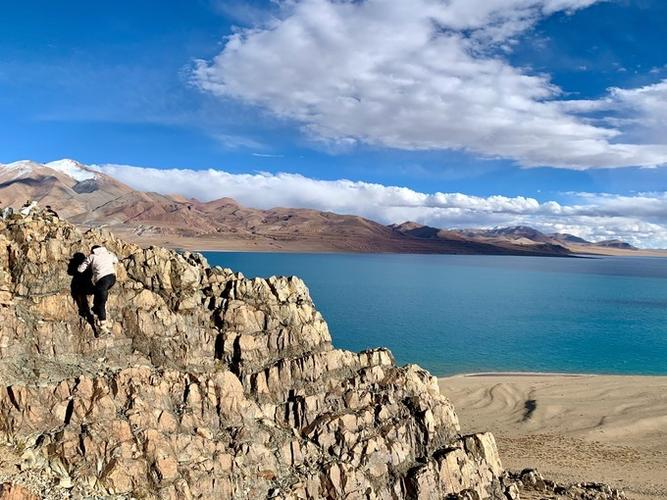mountain: (22, 167, 411, 252)
sea_river: (176, 252, 647, 363)
sky_cloud: (30, 0, 667, 154)
